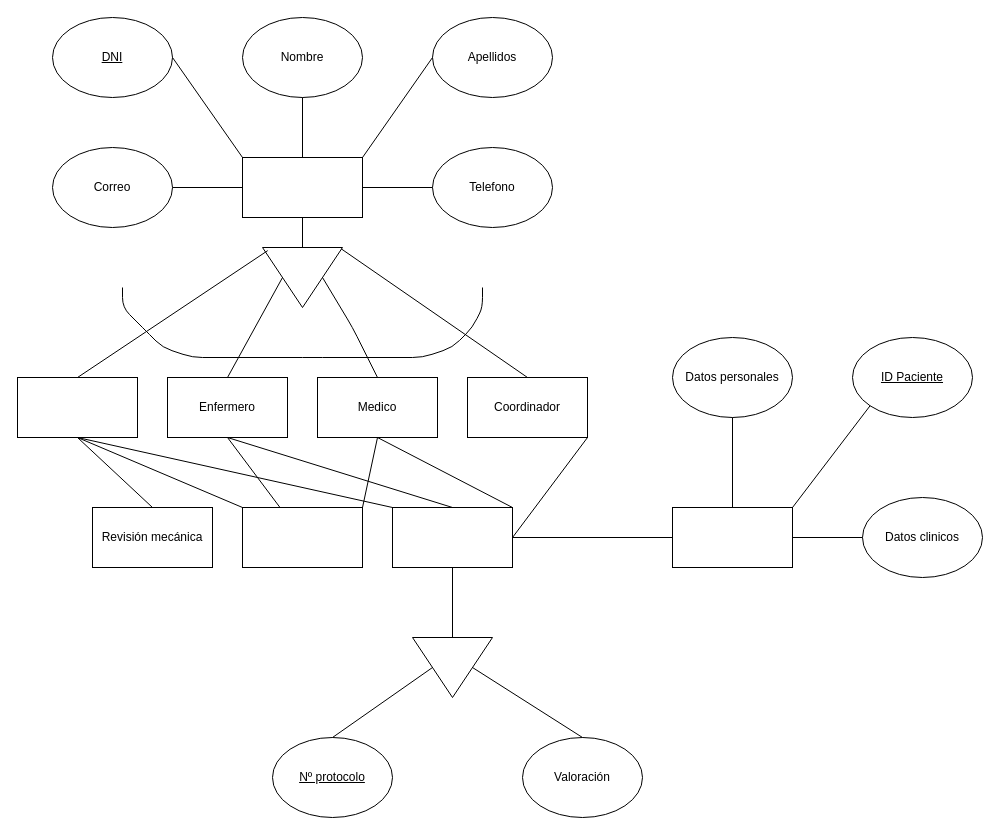
The diagram is 1000 pixels wide and 835 high, and some of its shapes have lost their labels. Here are the shapes that lost their labels. From the top down, the box of each, then its label:
(242, 156, 362, 218): Trabajador
(16, 376, 138, 438): TES
(242, 506, 362, 568): Revision material
(392, 506, 512, 568): Informes clinicos
(672, 506, 792, 568): Paciente
